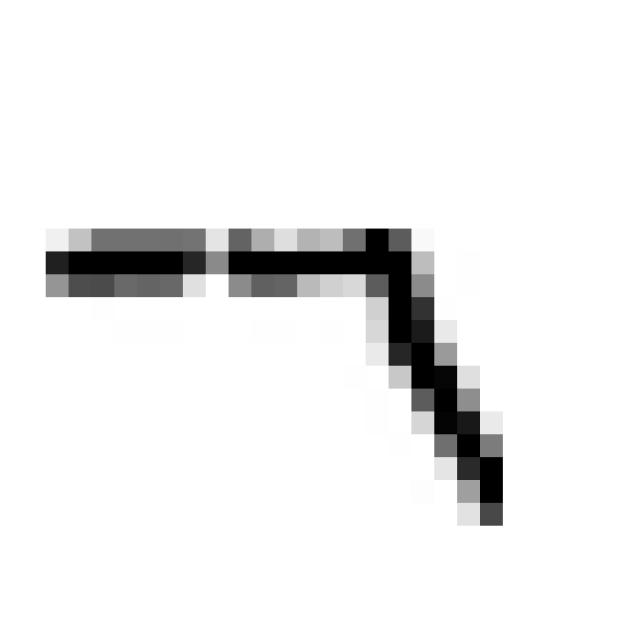6 -six-: (25, 204, 527, 548)
